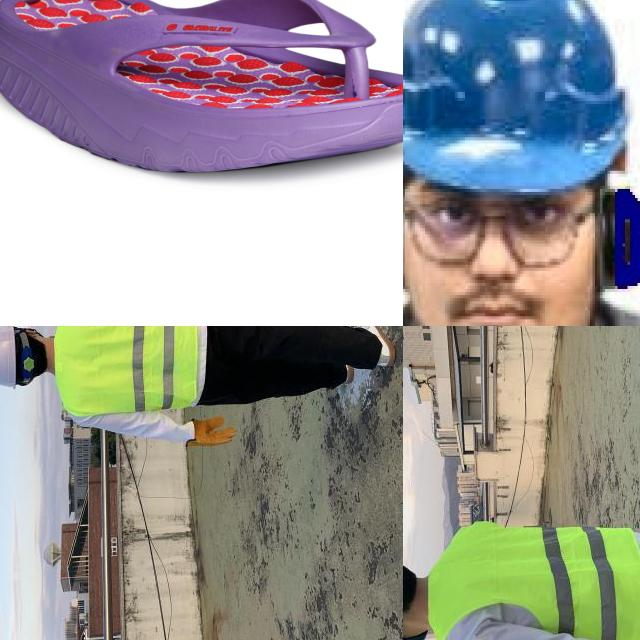Ear-protection: (403, 169, 640, 313)
Sandals: (0, 0, 403, 175)
boots: (354, 326, 402, 354)
head_helmet: (403, 0, 640, 326), (403, 0, 640, 201), (0, 326, 19, 392)
person: (0, 326, 403, 452)
vest: (422, 512, 640, 640), (53, 326, 201, 419)
